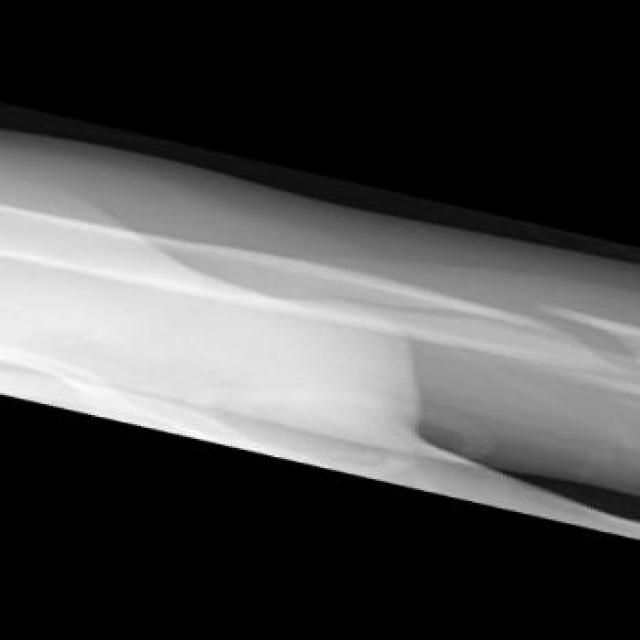Fracture: (375, 298, 633, 375)
